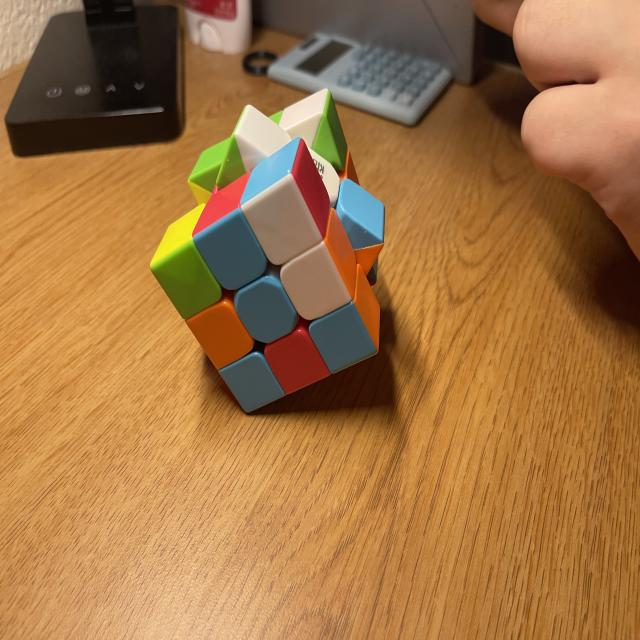Rubiks Cube: (149, 90, 386, 413)
